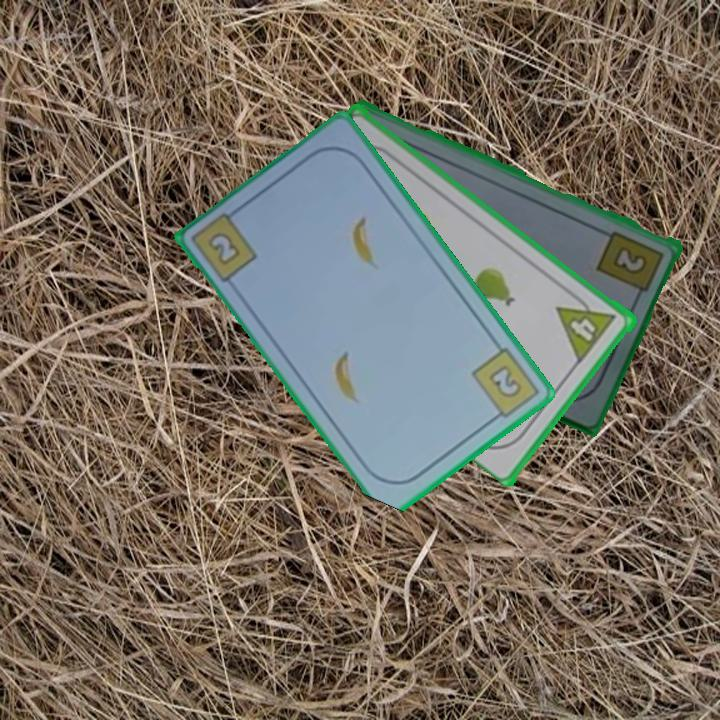2b: (468, 343, 542, 426), (593, 227, 668, 302), (204, 228, 245, 269)
4p: (553, 287, 620, 365)
